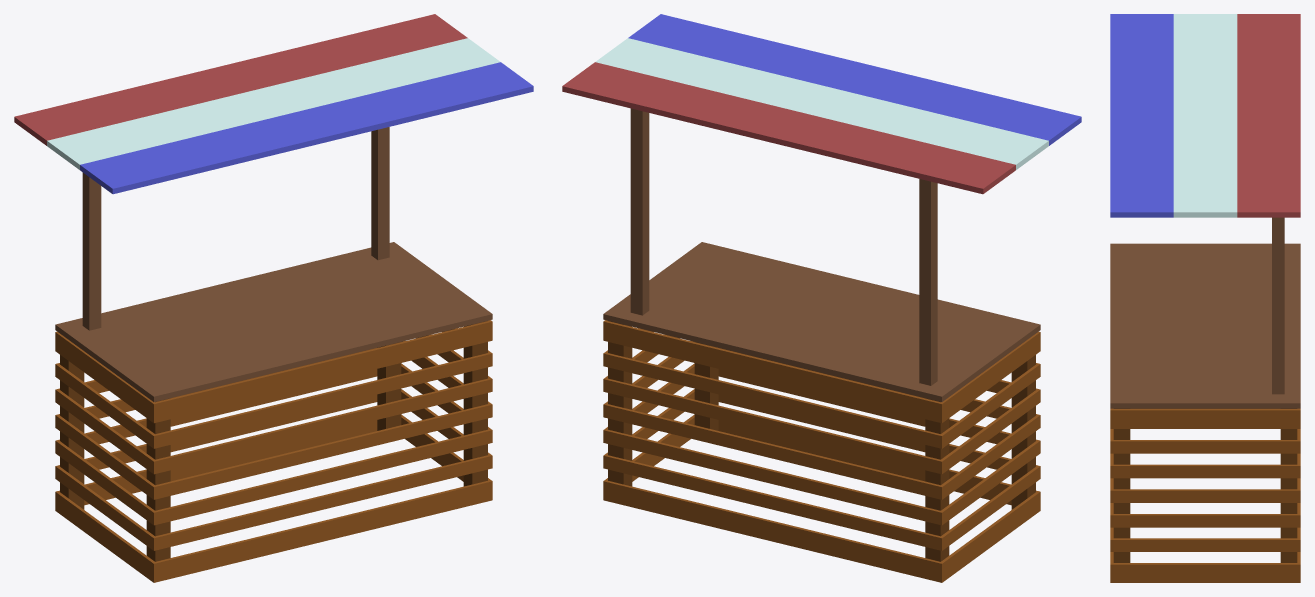
The model's file is stall_fix.fbx.
3 renders of one model, left to right at view 1: azimuth 30°, elevation 25°; view 2: azimuth 150°, elevation 25°; view 3: azimuth 270°, elevation 25°, orthographic. The views are drawn at different scales.
Visible parts, largest first — view 1: Cube, Cube.002, Cube.001, Plane, Plane.001; view 2: Cube, Cube.002, Cube.001, Plane.001, Plane; view 3: Cube.002, Cube.001, Cube, Plane, Plane.001.
Part boxes in pixels (bbox=[...]): Cube: bbox=[55, 320, 492, 582]; Cube.002: bbox=[14, 14, 533, 194]; Cube.001: bbox=[55, 242, 492, 401]; Plane: bbox=[60, 321, 487, 561]; Plane.001: bbox=[82, 127, 389, 330]; Cube: bbox=[603, 320, 1040, 582]; Cube.002: bbox=[562, 14, 1081, 194]; Cube.001: bbox=[603, 242, 1040, 401]; Plane.001: bbox=[630, 108, 937, 385]; Plane: bbox=[608, 321, 1035, 561]; Cube.002: bbox=[1110, 14, 1300, 217]; Cube.001: bbox=[1110, 243, 1300, 408]; Cube: bbox=[1110, 408, 1300, 582]; Plane: bbox=[1113, 408, 1297, 562]; Plane.001: bbox=[1272, 217, 1284, 394].
Bounding box in the file's own units: 493 × 452 × 200.
